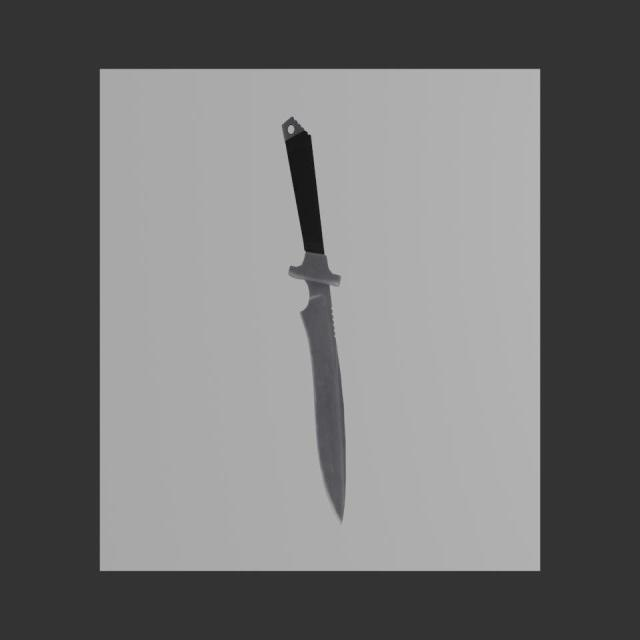knife: (282, 117, 324, 255)
